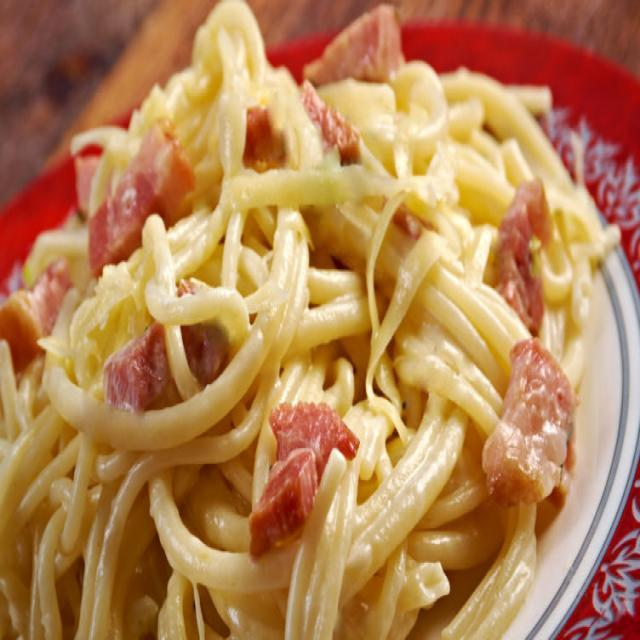Pasta with carbonara sauce: (23, 31, 575, 615)
